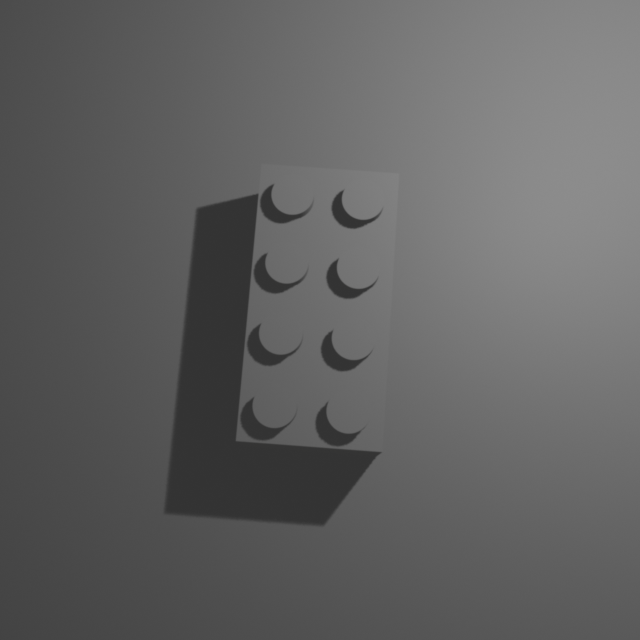lego_2x4: (234, 159, 401, 456)
